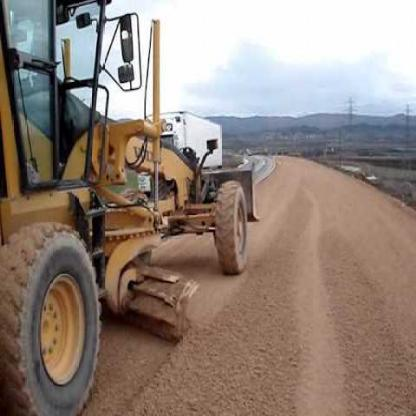bull_dozer/loader/grader: (2, 3, 270, 415)
